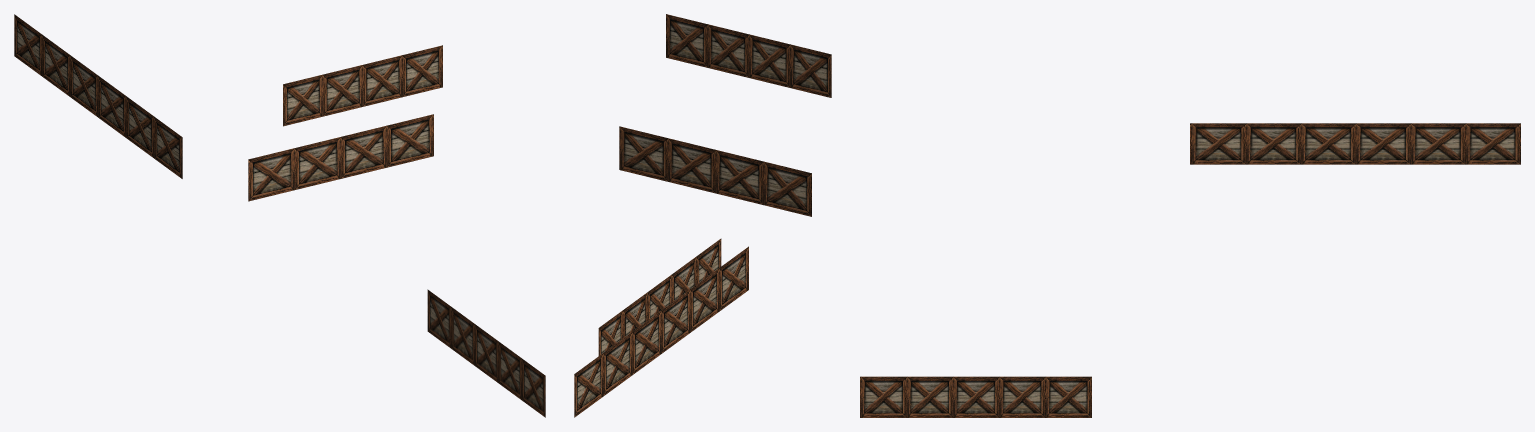
File: LAKETOWN_EXTERIOR_PS_LT_PANELS2467.fbx
3 renders of one model, left to right at view 1: azimuth 30°, elevation 25°; view 2: azimuth 150°, elevation 25°; view 3: azimuth 270°, elevation 25°, orthographic. The views are drawn at different scales.
Parts seen in each view (by area): view 1: LAKETOWN_EXTERIOR_PS_LT_PANELS2467; view 2: LAKETOWN_EXTERIOR_PS_LT_PANELS2467; view 3: LAKETOWN_EXTERIOR_PS_LT_PANELS2467.
Part boxes in pixels (x1,y1,x2,y2): LAKETOWN_EXTERIOR_PS_LT_PANELS2467: (14,14,545,417); LAKETOWN_EXTERIOR_PS_LT_PANELS2467: (574,14,831,417); LAKETOWN_EXTERIOR_PS_LT_PANELS2467: (860,123,1520,417).
Bounding box in the file's own units: 49575 × 78126 × 148271.
1 material, 1 textured.
